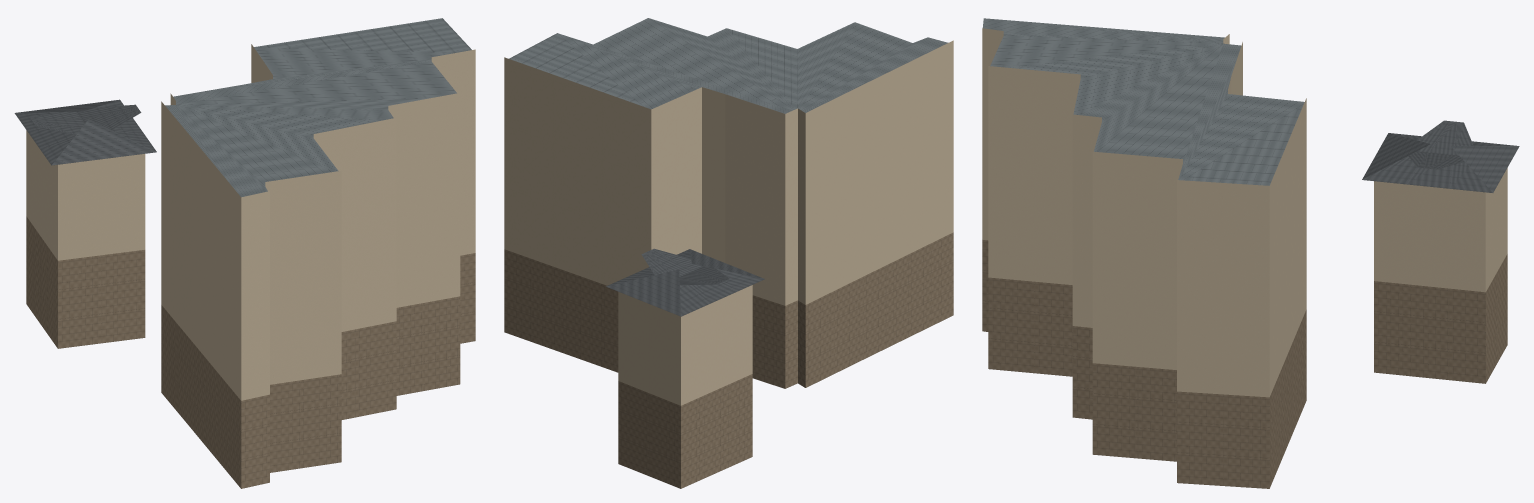
The model's file is bld_c-3_3_537.gltf.
3 renders of one model, left to right at view 1: azimuth 30°, elevation 25°; view 2: azimuth 150°, elevation 25°; view 3: azimuth 270°, elevation 25°, orthographic. The views are drawn at different scales.
Parts seen in each view (by area): view 1: bld_c-3_3_537; view 2: bld_c-3_3_537; view 3: bld_c-3_3_537.
Boxes of the visible parts, left/top/right/bottom form: bld_c-3_3_537: left=14, top=18, right=475, bottom=488; bld_c-3_3_537: left=504, top=18, right=953, bottom=488; bld_c-3_3_537: left=982, top=18, right=1519, bottom=488.
Size of the model in its own units: 20.53 by 17.38 by 27.13.
Materials: 5 (5 with a texture image).
